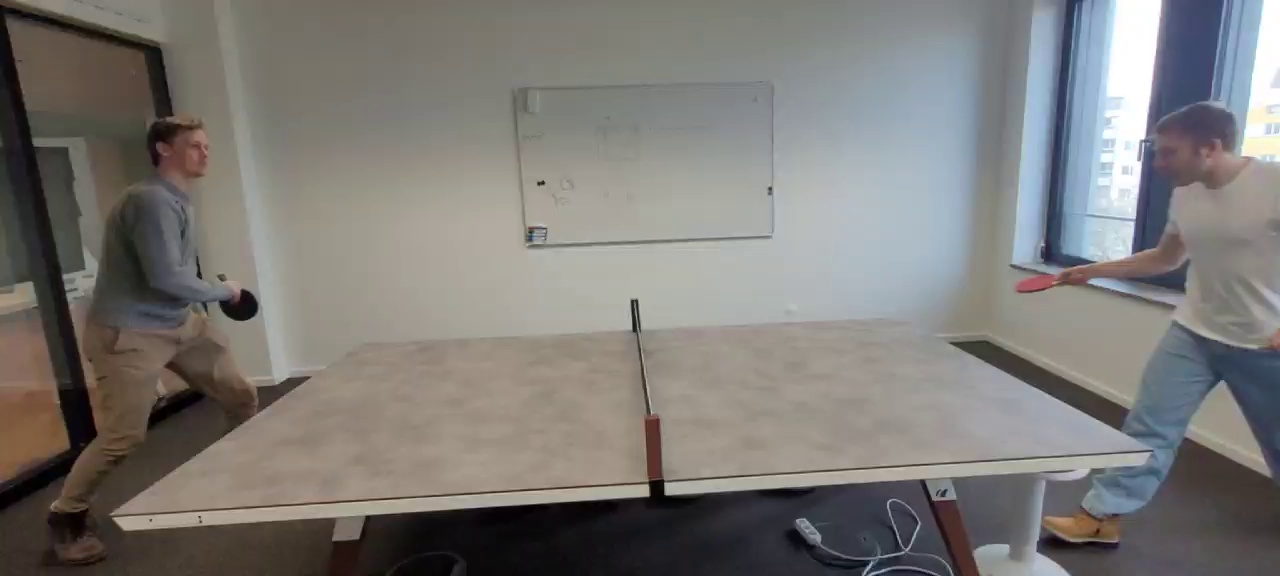1: (219, 287, 259, 321), (1015, 276, 1082, 293)
2: (784, 303, 797, 315)
ttplatte: (113, 315, 1153, 514)
